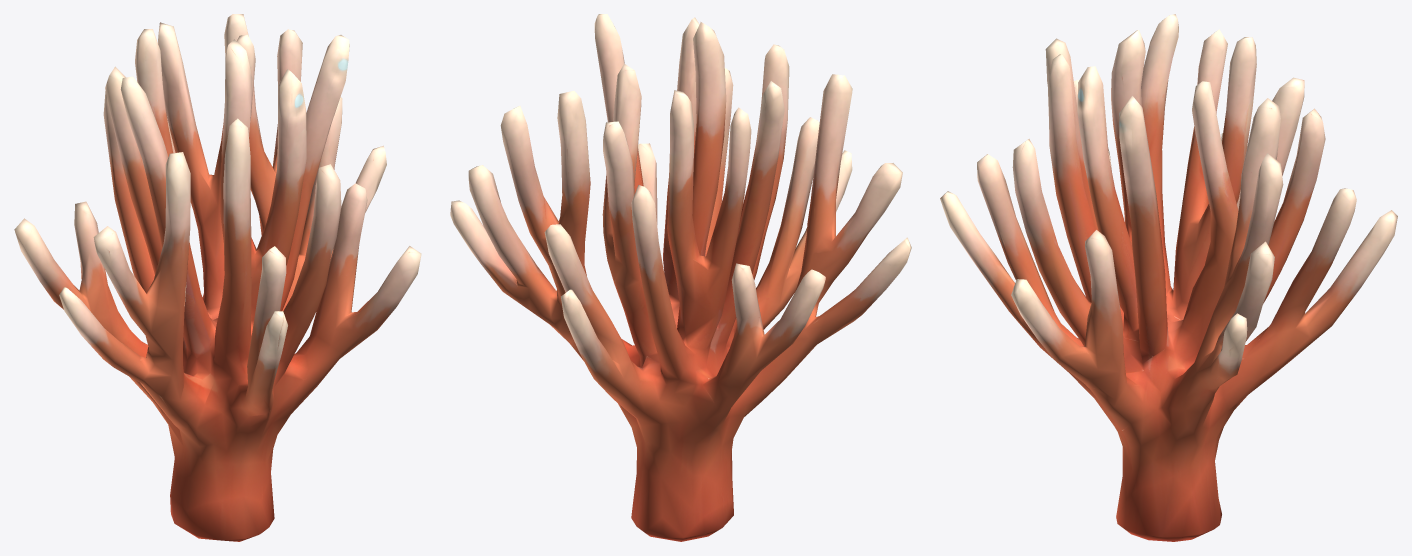
3 renders of one model, left to right at view 1: azimuth 30°, elevation 25°; view 2: azimuth 150°, elevation 25°; view 3: azimuth 270°, elevation 25°, orthographic.
Visible parts, largest first — view 1: Mesh_0; view 2: Mesh_0; view 3: Mesh_0.
Boxes of the visible parts, box(x1,y1,x2,y2) form: Mesh_0: box(14, 14, 421, 541); Mesh_0: box(450, 14, 911, 541); Mesh_0: box(940, 14, 1397, 541).
Bounding box in the file's own units: 1.59 × 1.91 × 1.61.
Materials: 1 (1 with a texture image).
